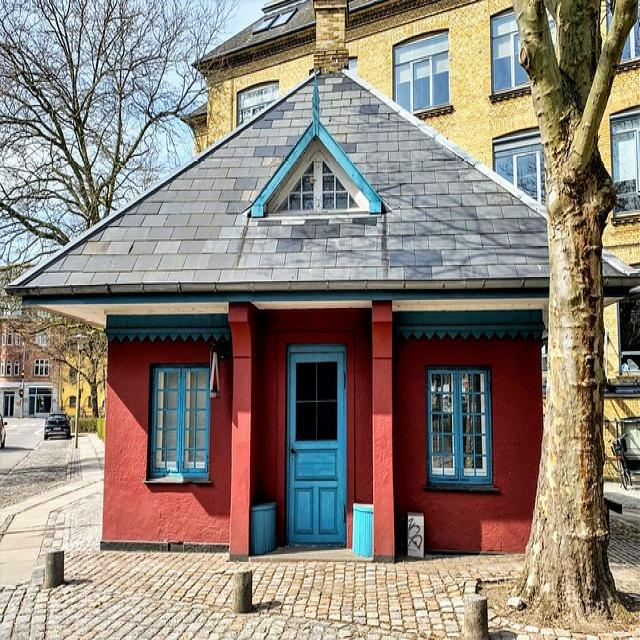building: (2, 63, 634, 566)
